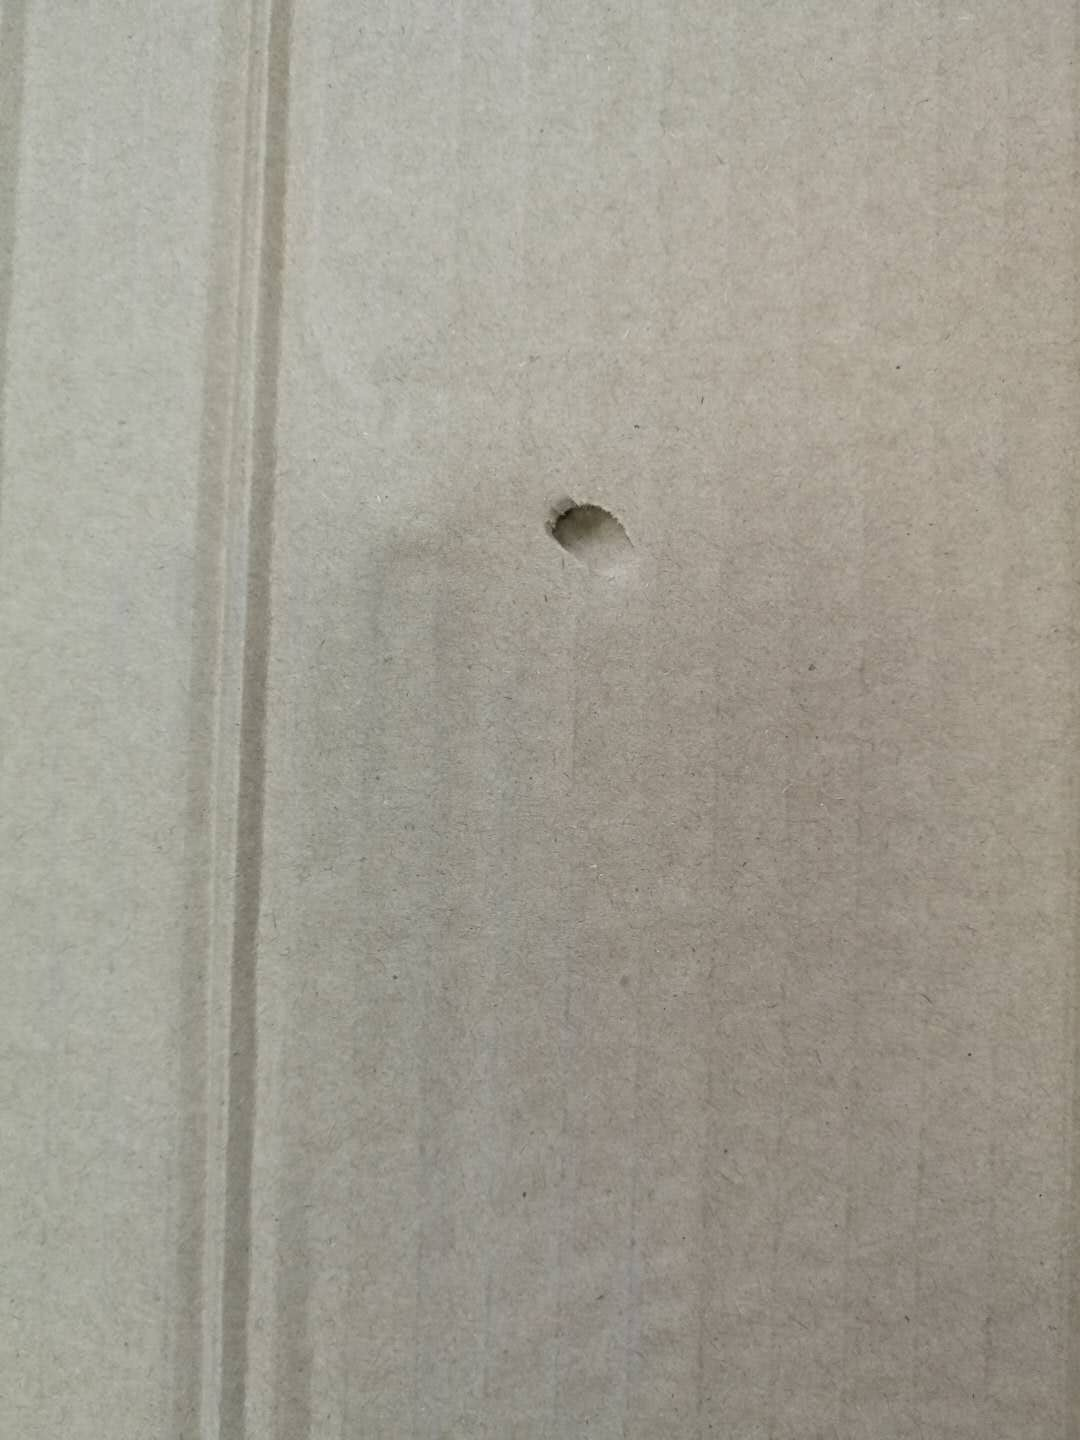defect: (145, 1, 386, 1439), (509, 478, 680, 619)
